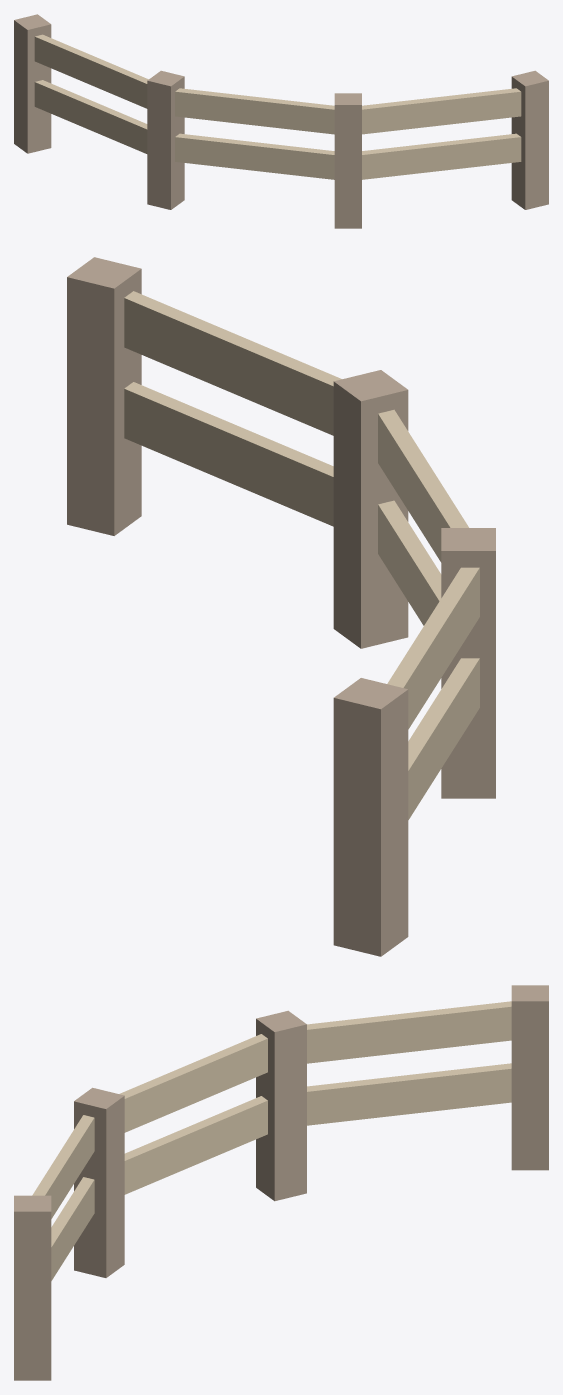
The model's file is Prop_Fence_Curve_2x2.glb.
3 renders of one model, top to bottom at view 1: azimuth 30°, elevation 25°; view 2: azimuth 150°, elevation 25°; view 3: azimuth 270°, elevation 25°, orthographic. The views are drawn at different scales.
Visible parts, largest first — view 1: object10, object8, object3, object4, object7, object9, object6, object5, object1, object2; view 2: object6, object9, object5, object4, object3, object7, object2, object10, object1, object8; view 3: object7, object1, object2, object5, object9, object6, object10, object8, object4, object3.
Boxes of the visible parts, left/top/right/bottom form: object10: left=175, top=88, right=334, bottom=134; object8: left=175, top=133, right=334, bottom=179; object3: left=362, top=133, right=521, bottom=179; object4: left=362, top=88, right=521, bottom=134; object7: left=147, top=70, right=184, bottom=209; object9: left=511, top=70, right=548, bottom=209; object6: left=14, top=14, right=51, bottom=153; object5: left=334, top=93, right=361, bottom=228; object1: left=34, top=80, right=147, bottom=153; object2: left=34, top=34, right=148, bottom=108; object6: left=333, top=678, right=408, bottom=956; object9: left=67, top=257, right=141, bottom=535; object5: left=333, top=370, right=408, bottom=648; object4: left=124, top=291, right=341, bottom=435; object3: left=124, top=382, right=333, bottom=526; object7: left=441, top=528, right=495, bottom=798; object2: left=387, top=567, right=479, bottom=729; object10: left=378, top=409, right=468, bottom=562; object1: left=408, top=658, right=479, bottom=819; object8: left=378, top=500, right=441, bottom=625; object7: left=256, top=1010, right=306, bottom=1201; object1: left=307, top=1063, right=511, bottom=1125; object2: left=307, top=1001, right=511, bottom=1063; object5: left=74, top=1087, right=124, bottom=1277; object9: left=14, top=1195, right=51, bottom=1380; object6: left=511, top=985, right=548, bottom=1170; object10: left=119, top=1034, right=267, bottom=1132; object8: left=124, top=1096, right=267, bottom=1194; object4: left=32, top=1115, right=94, bottom=1218; object3: left=51, top=1177, right=94, bottom=1280.
Size of what is drawn, in the model's own units: 2.15 by 0.7498 by 2.15.
